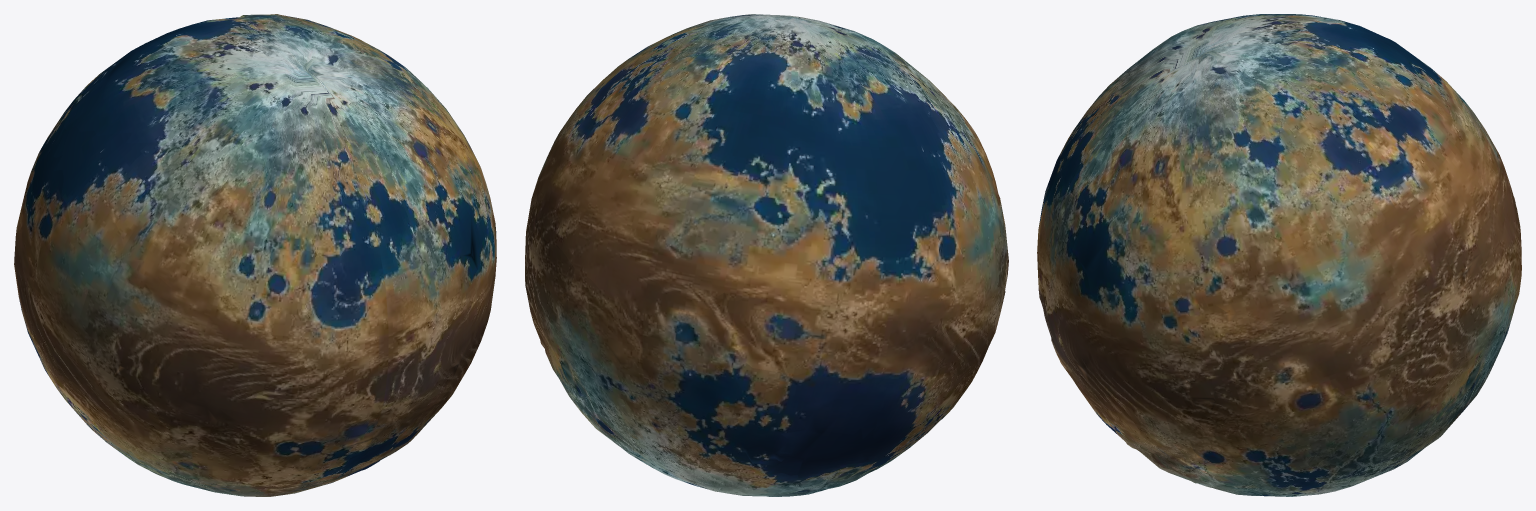
File: planet_13.glb
The picture shows the model from 3 angles, left to right: view 1: azimuth 30°, elevation 25°; view 2: azimuth 150°, elevation 25°; view 3: azimuth 270°, elevation 25°; orthographic projection.
Parts seen in each view (by area): view 1: Mesh_0.001; view 2: Mesh_0.001; view 3: Mesh_0.001.
Part boxes in pixels (left/top/right/bottom): Mesh_0.001: left=14, top=14, right=496, bottom=496; Mesh_0.001: left=525, top=14, right=1008, bottom=496; Mesh_0.001: left=1037, top=14, right=1521, bottom=496.
Size of the model in its own units: 1.9 by 1.9 by 1.9.
Materials: 1 (1 with a texture image).
